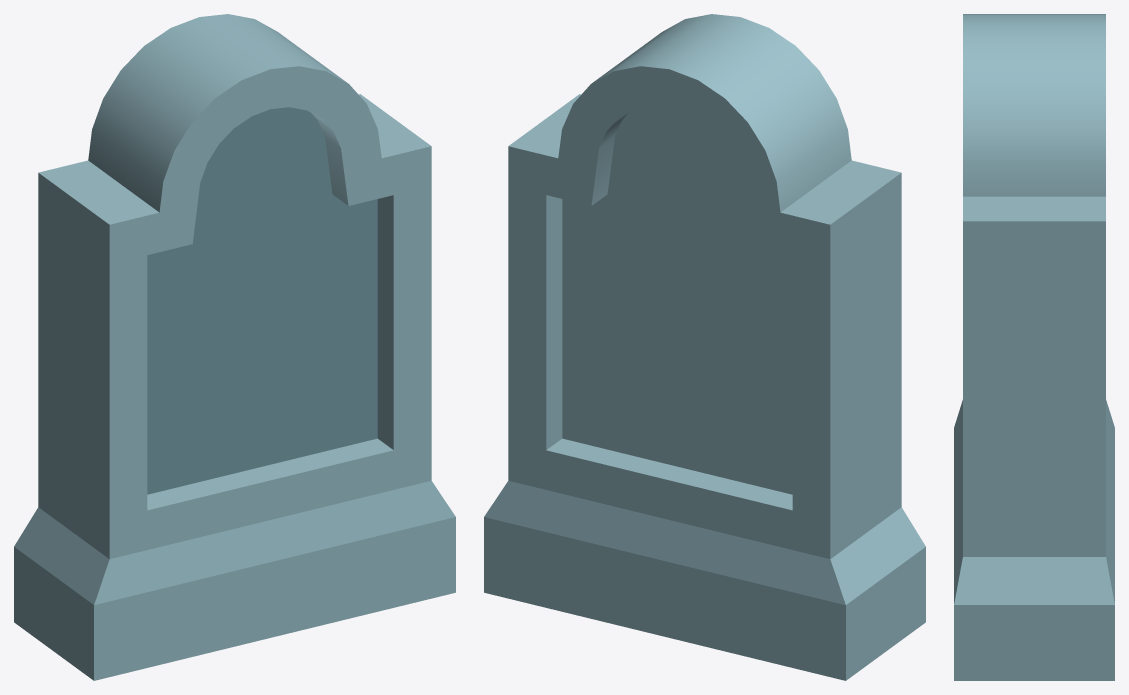
The model's file is gravestoneBevel.obj.
3 views of the same model, side by side, from view 1: azimuth 30°, elevation 25°; view 2: azimuth 150°, elevation 25°; view 3: azimuth 270°, elevation 25° (orthographic).
Visible parts, largest first — view 1: gravestoneBevel; view 2: gravestoneBevel; view 3: gravestoneBevel.
Part boxes in pixels (x1=…): gravestoneBevel: x1=14, y1=14, x2=455, y2=680; gravestoneBevel: x1=484, y1=14, x2=925, y2=680; gravestoneBevel: x1=954, y1=14, x2=1114, y2=680.
Size of the model in its own units: 0.39 by 0.5812 by 0.1495.
